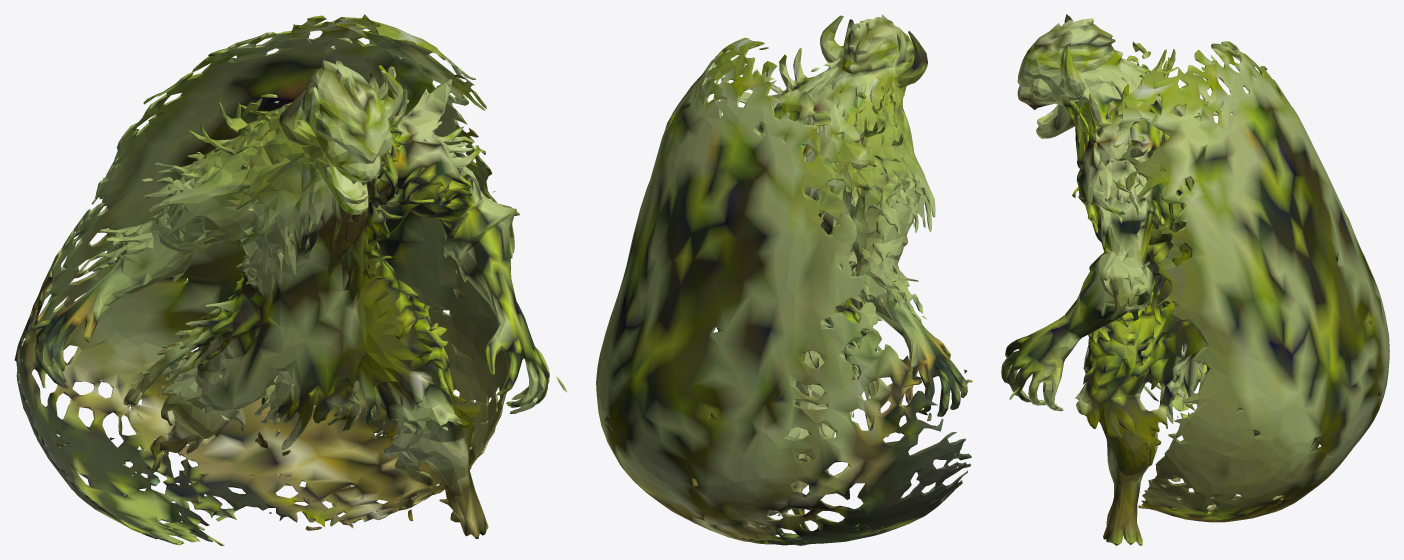
Rendered from greenSlime.glb.
3 renders of one model, left to right at view 1: azimuth 30°, elevation 25°; view 2: azimuth 150°, elevation 25°; view 3: azimuth 270°, elevation 25°, orthographic. The views are drawn at different scales.
Parts seen in each view (by area): view 1: world; view 2: world; view 3: world.
Part boxes in pixels (bbox=[...]): world: bbox=[14, 14, 567, 545]; world: bbox=[596, 14, 972, 545]; world: bbox=[1001, 14, 1389, 545].
Bounding box in the file's own units: 0.8752 × 1 × 0.7736.
